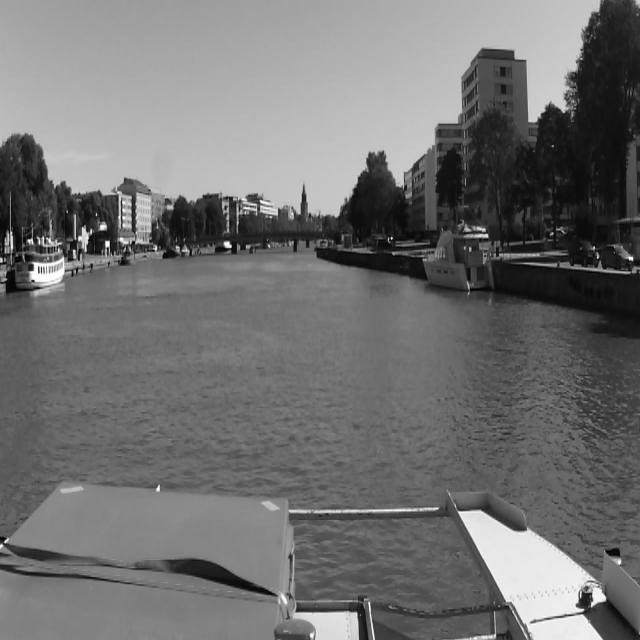ship: (423, 221, 495, 295), (11, 234, 65, 289), (165, 243, 182, 261), (120, 250, 136, 266)
